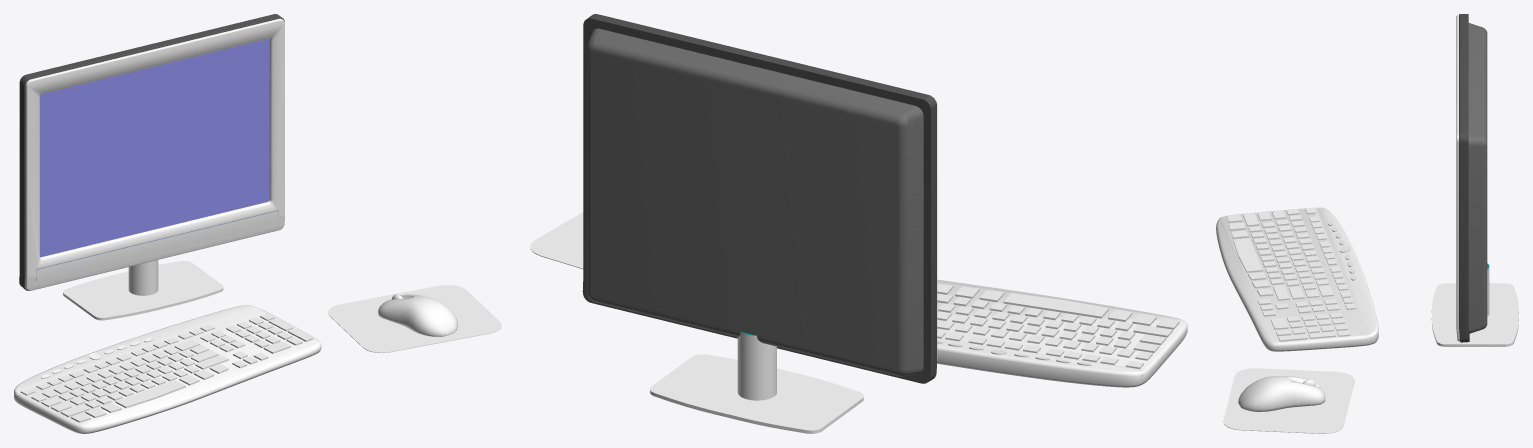
3 renders of one model, left to right at view 1: azimuth 30°, elevation 25°; view 2: azimuth 150°, elevation 25°; view 3: azimuth 270°, elevation 25°, orthographic. The views are drawn at different scales.
Parts seen in each view (by area): view 1: computer.dxf_001; view 2: computer.dxf_001; view 3: computer.dxf_001.
Boxes of the visible parts, x1,y1,x2,y2 form: computer.dxf_001: (14, 14, 501, 433); computer.dxf_001: (530, 14, 1187, 433); computer.dxf_001: (1216, 14, 1518, 433).
Size of the model in its own units: 44.68 by 23.51 by 26.35.
